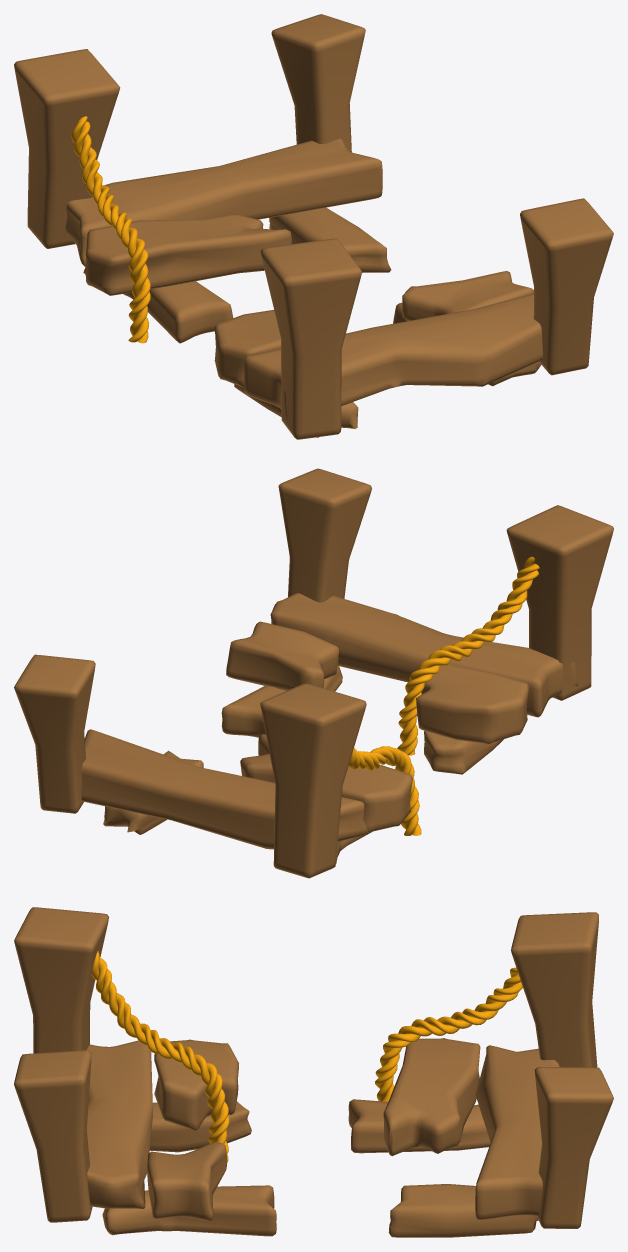
File: Tile_Bridge_Broken.fbx
3 renders of one model, top to bottom at view 1: azimuth 30°, elevation 25°; view 2: azimuth 150°, elevation 25°; view 3: azimuth 270°, elevation 25°, orthographic. The views are drawn at different scales.
Visible parts, largest first — view 1: Cube.031; view 2: Cube.031; view 3: Cube.031.
Part boxes in pixels (box(x1,y1,x2,y2)): Cube.031: box(14, 14, 613, 439); Cube.031: box(14, 468, 613, 878); Cube.031: box(14, 907, 613, 1237).
Bounding box in the file's own units: 132 × 75.45 × 201.
Materials: 1 (1 with a texture image).
